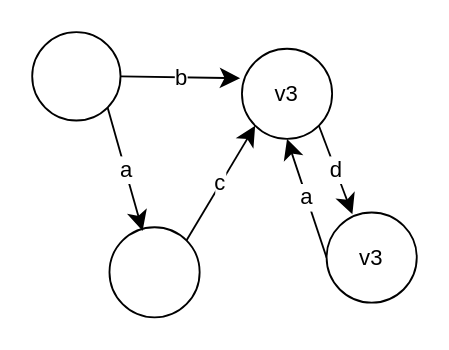
Image size: 449x350. Some labels were removed from this diagram. Here are the shapes that lost their labels. From the top down, the centre of each, then its label:
[75,75]: v1
[154,271]: v2
